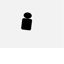human: (20, 11, 34, 31)
